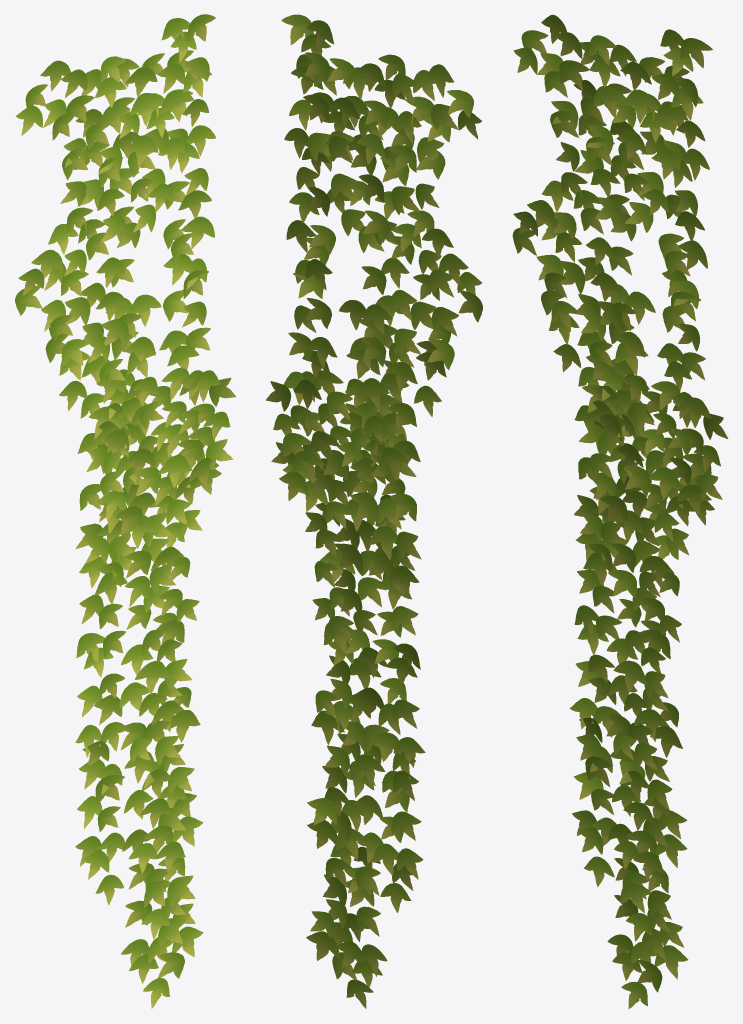
File: Foliage_1.fbx
3 renders of one model, left to right at view 1: azimuth 30°, elevation 25°; view 2: azimuth 150°, elevation 25°; view 3: azimuth 330°, elevation 25°, orthographic.
Parts seen in each view (by area): view 1: Foliage_1; view 2: Foliage_1; view 3: Foliage_1.
Boxes of the visible parts, x1=… form: Foliage_1: x1=15, y1=14, x2=235, y2=1008; Foliage_1: x1=266, y1=14, x2=482, y2=1008; Foliage_1: x1=512, y1=15, x2=728, y2=1008.
Bounding box in the file's own units: 263 × 1121 × 27.73.
